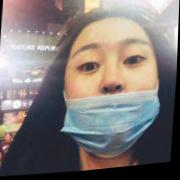WRONG: (62, 25, 164, 156)
